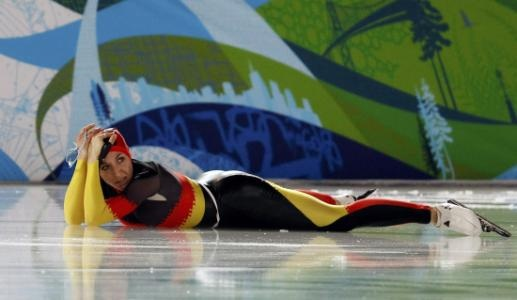falling: (56, 97, 504, 239)
